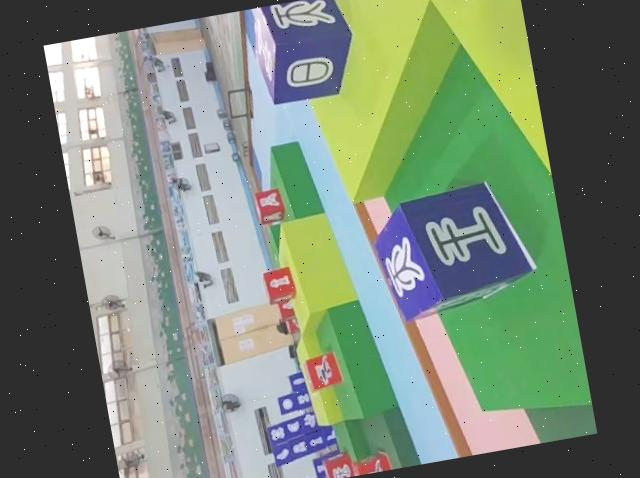R2 Fake Blue: (366, 175, 544, 324), (249, 0, 365, 106)
